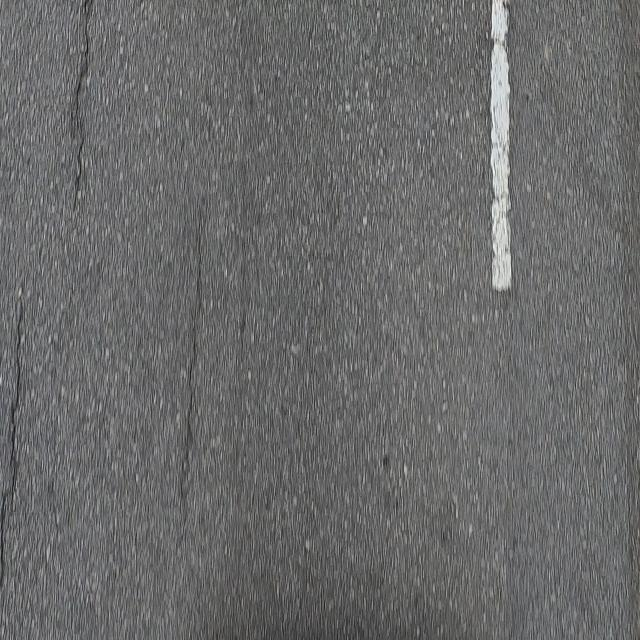Retak-Memanjang: (0, 291, 26, 595), (67, 0, 100, 216)
